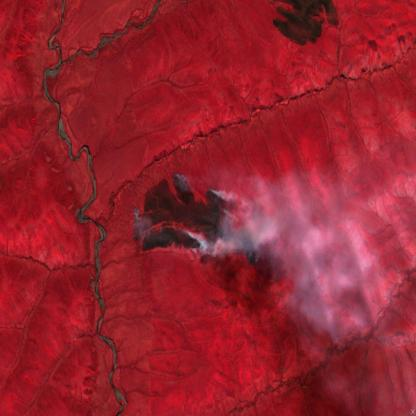fire: (129, 170, 266, 271)
